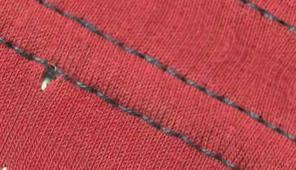hole: (34, 70, 56, 93)
